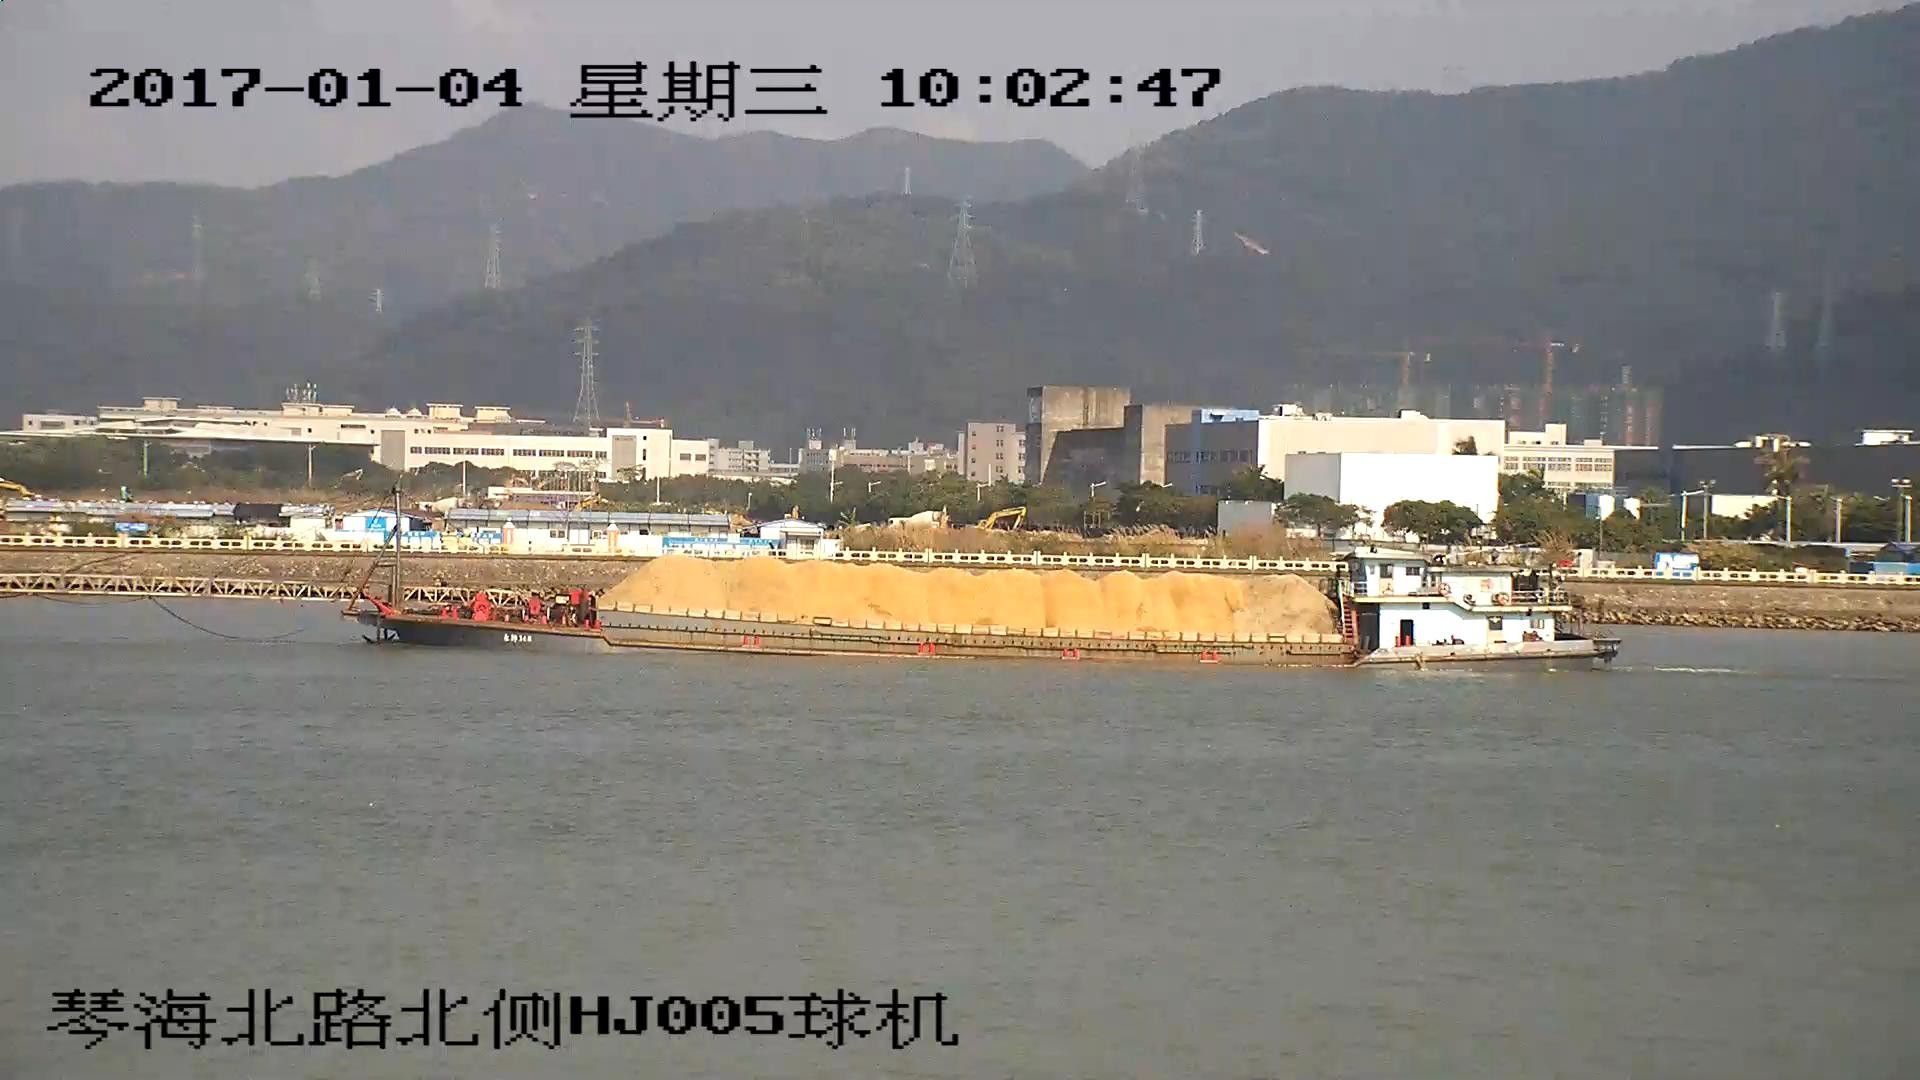ore carrier: (1, 495, 1622, 671)
